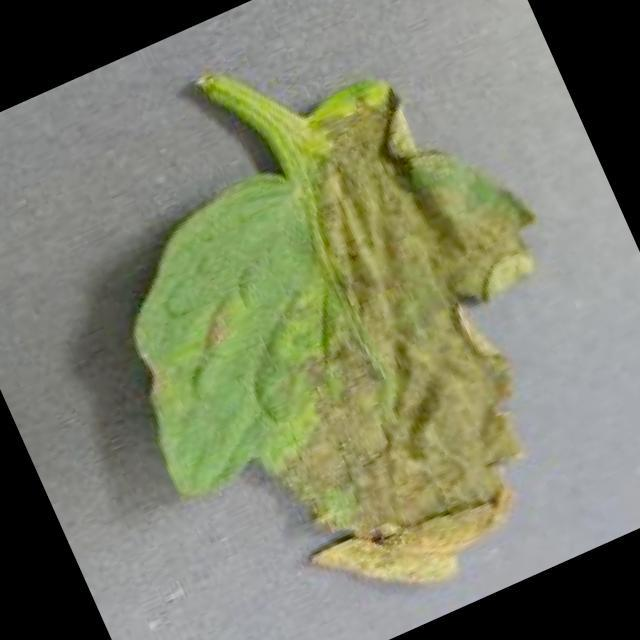Tomato bacterial spot leaf: (46, 28, 640, 640)
